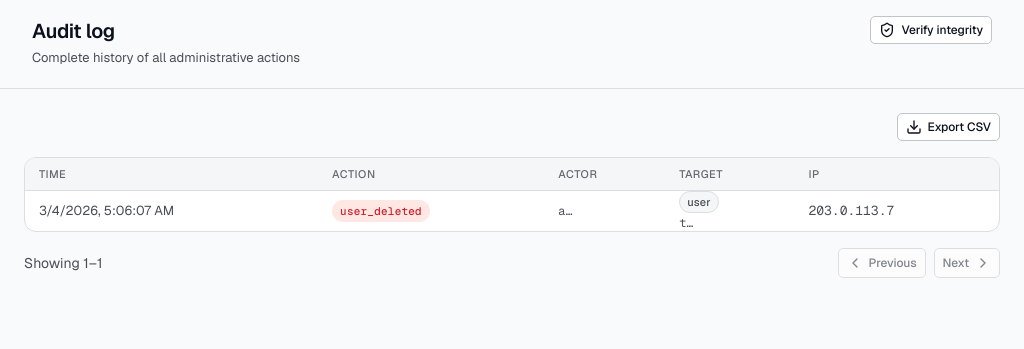
Test: the system page › KNOWN GAP: a failed export says nothing, it only re-enables the button
Expected: the text "user_deleted" is shown, [332,200,430,222]
Click the button "Export CSV": (948, 126) [896,112,1000,140]
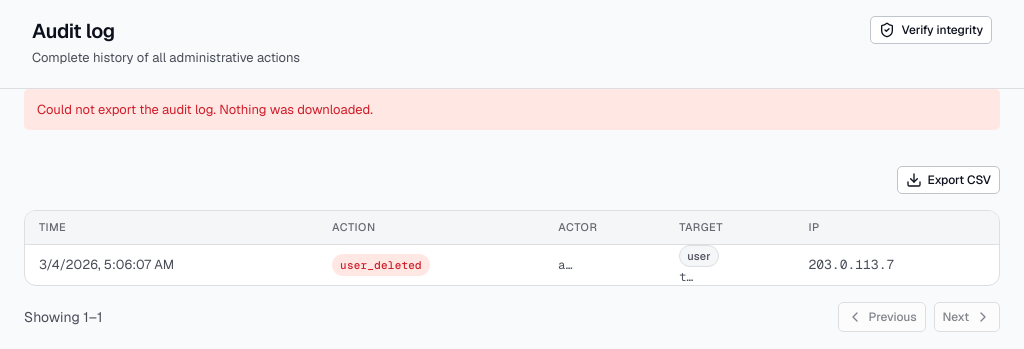
Expected: the button "Export CSV" is enabled, [896,166,1000,194]
Now the text "Could not export the audit log. Nothing was downloaded." is shown, box [24,88,1000,130]
